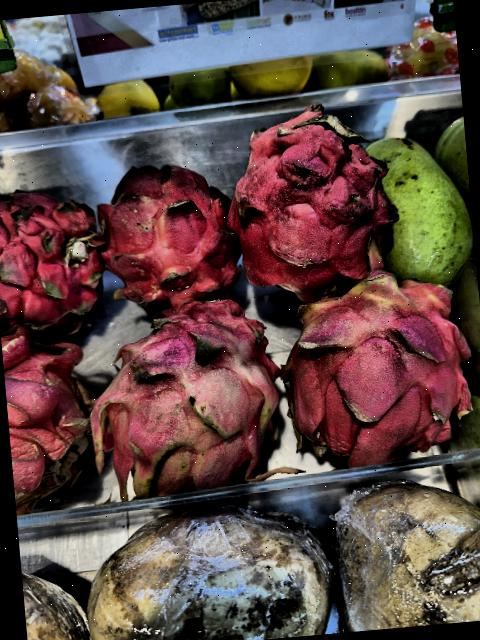buah-naga-belum-matang: (82, 298, 291, 500), (270, 265, 480, 466)
buah-naga-matang: (215, 104, 395, 298), (86, 152, 240, 306), (0, 322, 102, 514), (0, 174, 110, 342)
